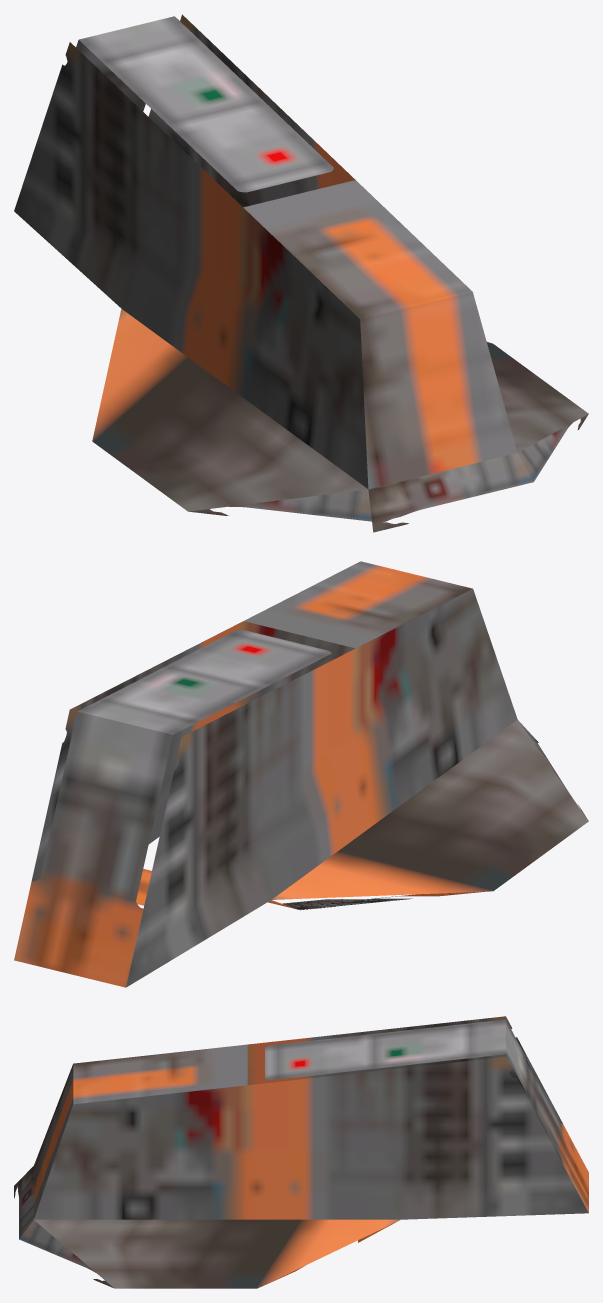
File: LOD2-UVFlip.obj
3 renders of one model, top to bottom at view 1: azimuth 30°, elevation 25°; view 2: azimuth 150°, elevation 25°; view 3: azimuth 270°, elevation 25°, orthographic. The views are drawn at different scales.
Parts seen in each view (by area): view 1: PulsarGunUV; view 2: PulsarGunUV; view 3: PulsarGunUV.
Part boxes in pixels (x1,y1,x2,y2): PulsarGunUV: (14, 14, 588, 532); PulsarGunUV: (14, 561, 588, 987); PulsarGunUV: (14, 1016, 588, 1288).
Size of the model in its own units: 7.24 by 4.18 by 12.11.
